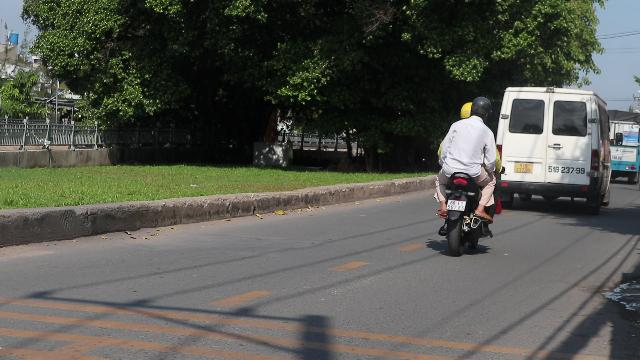helmet: (470, 96, 492, 120), (460, 100, 472, 117)
licenseplate: (446, 199, 466, 211)
motorcyclist: (430, 96, 500, 254)
